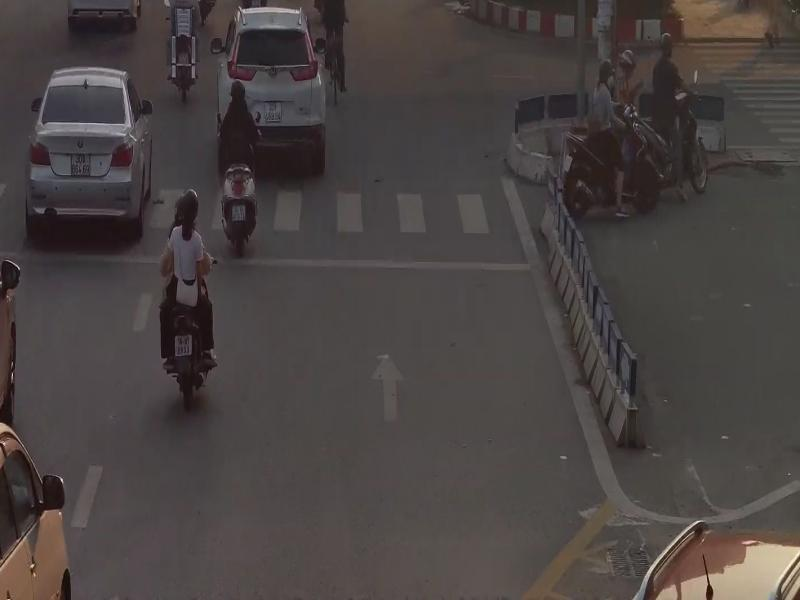helmet: (230, 81, 246, 103), (184, 189, 200, 210), (174, 197, 187, 221)
license_plate: (174, 335, 192, 357), (72, 156, 90, 178), (265, 102, 283, 122), (232, 205, 247, 224)
motorcyclist: (157, 189, 218, 414), (213, 78, 265, 255), (163, 0, 203, 108)
